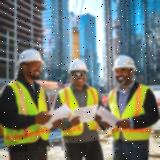Helmet: (16, 49, 45, 66), (111, 54, 137, 72), (68, 58, 90, 74)
Vest: (2, 78, 50, 147), (107, 83, 152, 141), (57, 82, 100, 137)
